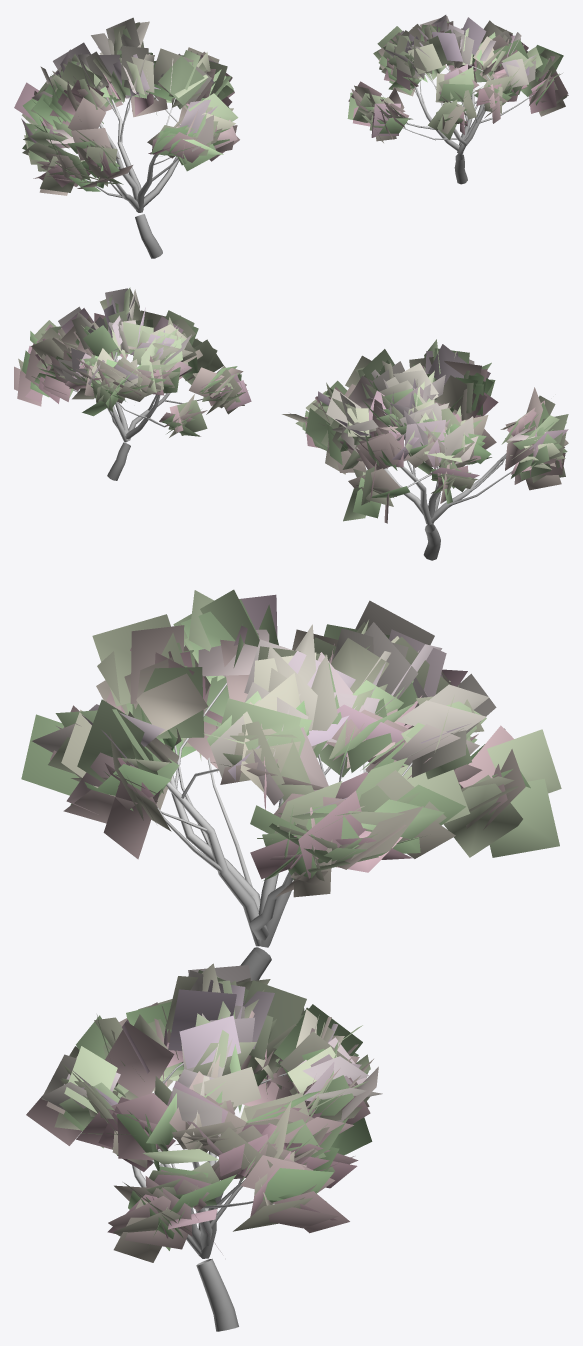
File: Khejri.fbx
3 renders of one model, top to bottom at view 1: azimuth 30°, elevation 25°; view 2: azimuth 150°, elevation 25°; view 3: azimuth 270°, elevation 25°, orthographic. The views are drawn at different scales.
Parts seen in each view (by area): view 1: Khejri_A_LOD0, Khejri_B_LOD0; view 2: Khejri_A_LOD0, Khejri_B_LOD0; view 3: Khejri_A_LOD0, Khejri_B_LOD0.
Boxes of the visible parts, <box> form: Khejri_A_LOD0: <box>14,17,239,258</box>; Khejri_B_LOD0: <box>347,15,568,184</box>; Khejri_A_LOD0: <box>282,339,568,560</box>; Khejri_B_LOD0: <box>14,287,251,480</box>; Khejri_A_LOD0: <box>21,589,561,980</box>; Khejri_B_LOD0: <box>26,963,382,1331</box>.
Size of what is drawn, in the model's own units: 22.05 by 7.98 by 9.81.
